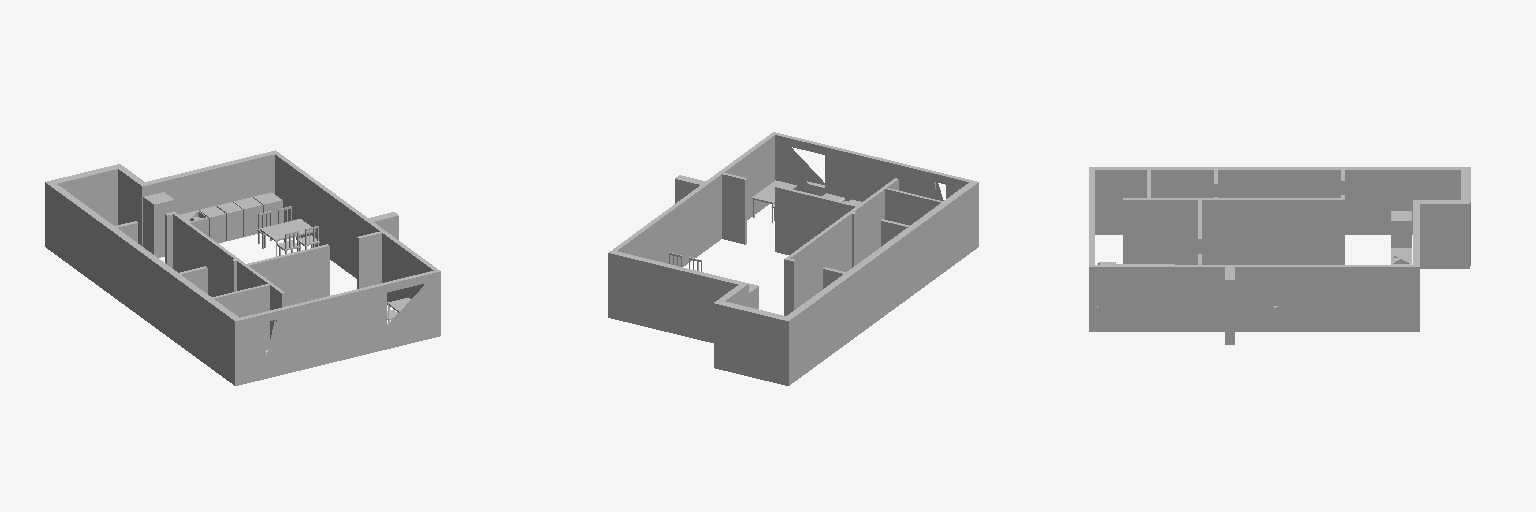
The model's file is OttoBrandt01.obj.
3 views of the same model, side by side, from view 1: azimuth 30°, elevation 25°; view 2: azimuth 150°, elevation 25°; view 3: azimuth 270°, elevation 25° (orthographic).
Parts seen in each view (by area): view 1: wall_outer_Cube, wall_internal_Cube.013, kitchen_table_Cube.004, kitchen01_fridge_Cube.011, kitchen06_Cube.006, kitchen05_Cube.007, kitchen04_Cube.008, kitchen07_Cube.005; view 2: wall_outer_Cube, wall_internal_Cube.013; view 3: wall_outer_Cube, wall_internal_Cube.013, kitchen01_fridge_Cube.011.
Boxes of the visible parts, <box> form: wall_outer_Cube: <box>45,150,440,385</box>; wall_internal_Cube.013: <box>115,212,383,350</box>; kitchen_table_Cube.004: <box>257,206,319,256</box>; kitchen01_fridge_Cube.011: <box>143,192,174,257</box>; kitchen06_Cube.006: <box>233,197,262,236</box>; kitchen05_Cube.007: <box>217,202,242,240</box>; kitchen04_Cube.008: <box>199,206,225,243</box>; kitchen07_Cube.005: <box>253,192,282,226</box>; wall_outer_Cube: <box>608,132,978,385</box>; wall_internal_Cube.013: <box>722,173,942,315</box>; wall_outer_Cube: <box>1089,167,1470,344</box>; wall_internal_Cube.013: <box>1123,170,1344,265</box>; kitchen01_fridge_Cube.011: <box>1391,211,1411,247</box>.
Bounding box in the file's own units: 7.47 × 2 × 10.64.